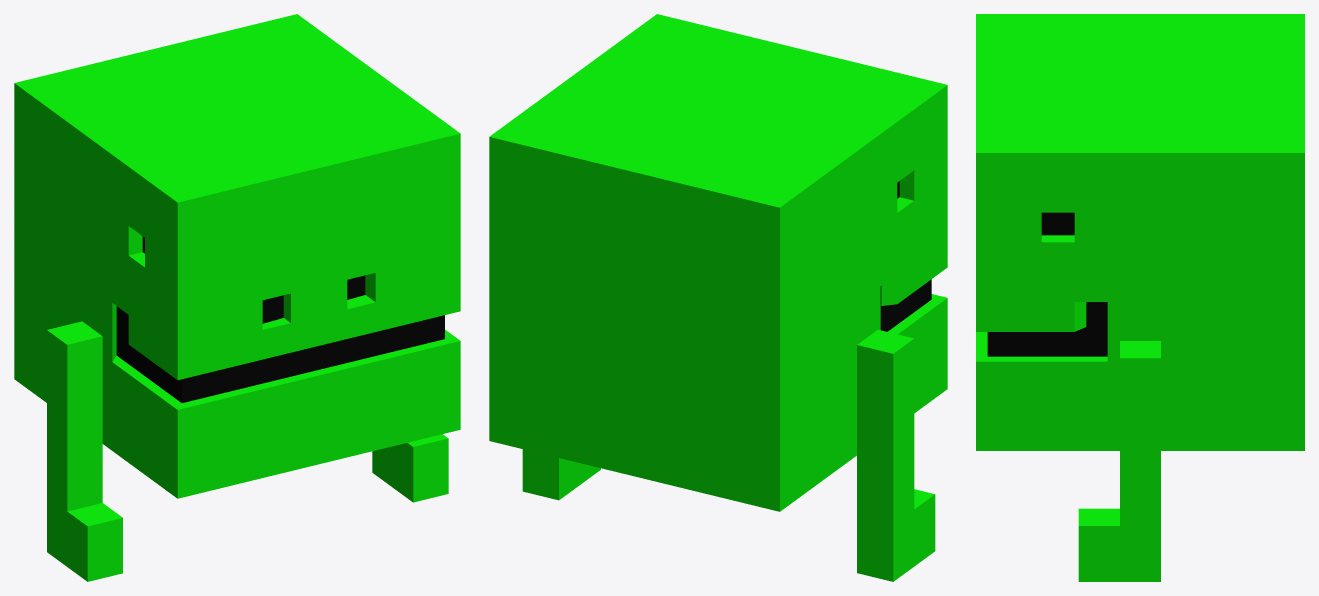
Rendered from robot.fbx.
The picture shows the model from 3 angles, left to right: view 1: azimuth 30°, elevation 25°; view 2: azimuth 150°, elevation 25°; view 3: azimuth 270°, elevation 25°; orthographic projection. The views are drawn at different scales.
Visible parts, largest first — view 1: Box, Right Leg, Mouth, Left Leg, Nostrils; view 2: Box, Right Leg, Left Leg, Mouth; view 3: Box, Left Leg, Mouth, Right Eye.
Boxes of the visible parts, box(x1,y1,x2,y2) form: Box: box(14, 14, 460, 498); Right Leg: box(47, 321, 122, 581); Mouth: box(116, 306, 444, 402); Left Leg: box(372, 434, 448, 502); Nostrils: box(262, 275, 365, 323); Box: box(489, 14, 947, 511); Right Leg: box(857, 329, 935, 581); Left Leg: box(522, 449, 600, 500); Mouth: box(880, 279, 931, 331); Box: box(976, 14, 1304, 450); Left Leg: box(1078, 341, 1160, 581); Mouth: box(987, 302, 1107, 356); Right Eye: box(1041, 212, 1074, 235).
Size of the model in its own units: 1.27 by 1.38 by 1.
